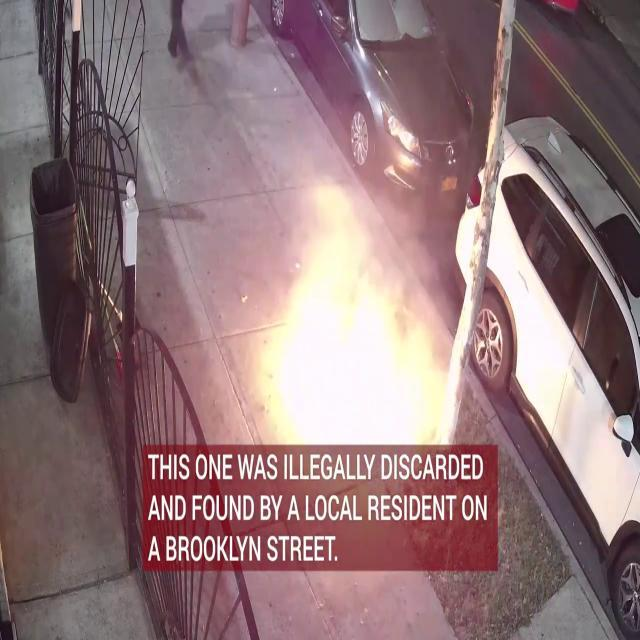Fire: (255, 196, 458, 446)
